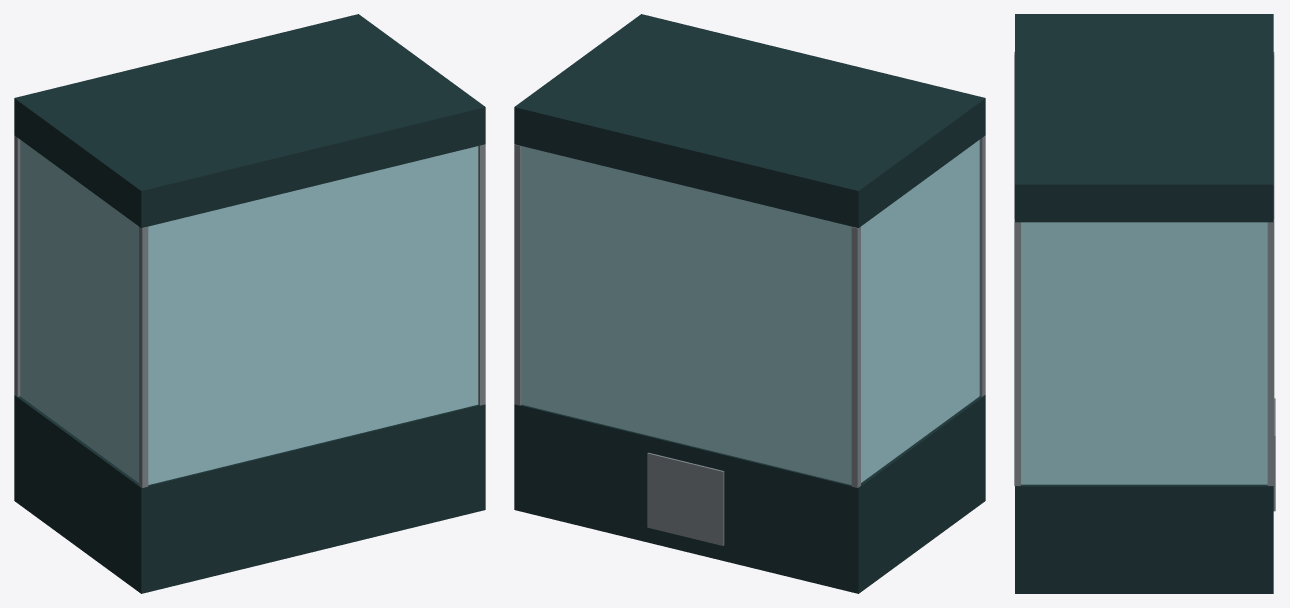
File: tank_S.fbx
3 views of the same model, side by side, from view 1: azimuth 30°, elevation 25°; view 2: azimuth 150°, elevation 25°; view 3: azimuth 270°, elevation 25° (orthographic).
Parts seen in each view (by area): view 1: tank_S; view 2: tank_S; view 3: tank_S.
Part boxes in pixels (x1,y1,x2,y2): tank_S: [14, 14, 485, 593]; tank_S: [514, 14, 985, 593]; tank_S: [1014, 14, 1275, 593].
Size of the model in its own units: 3.4 by 3.8 by 2.2.
